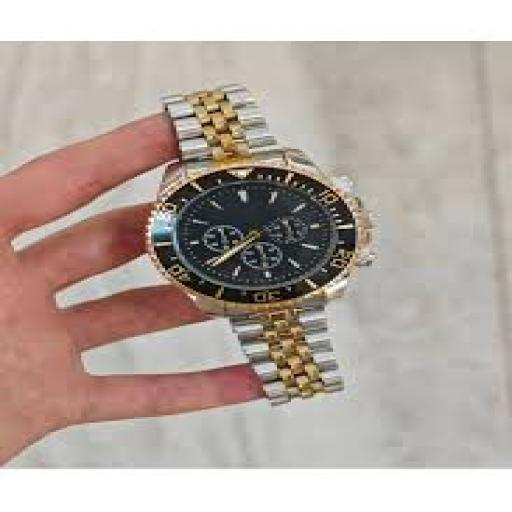KolSaati: (99, 74, 425, 427)
